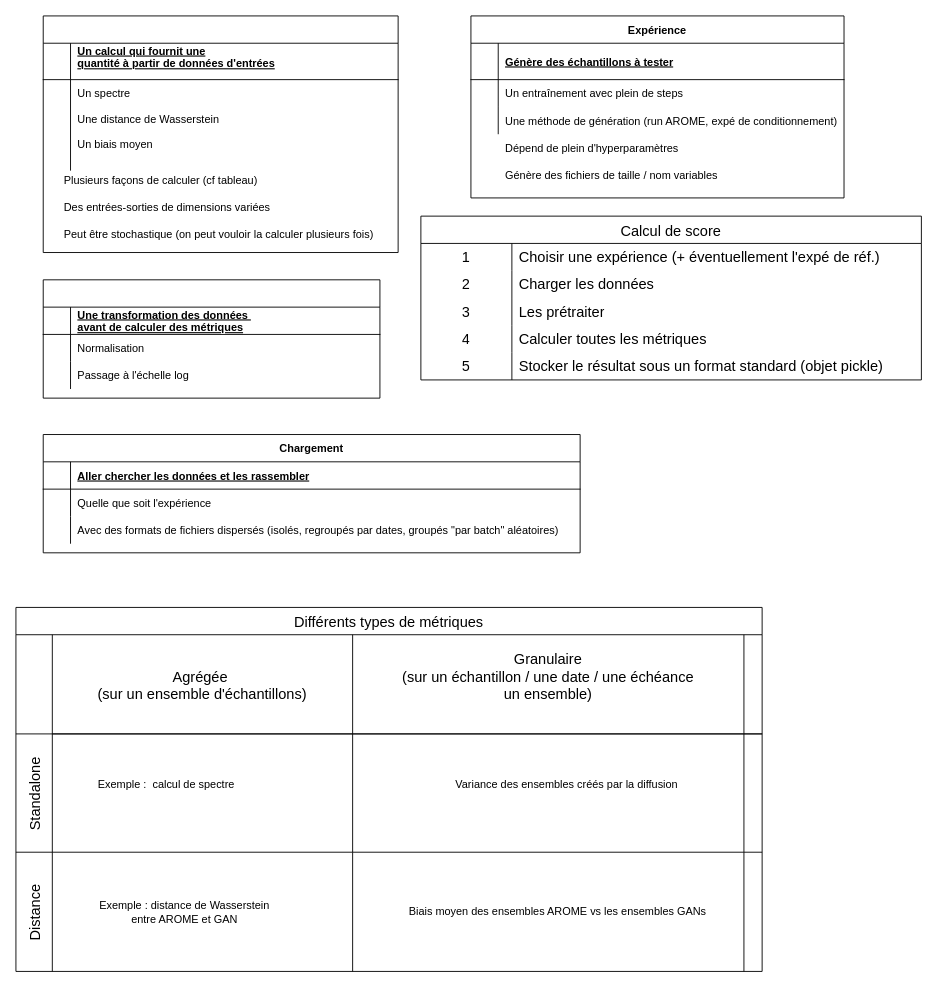
The diagram is 937 pixels wide and 987 high, and some of its shapes have lost their labels. Here are the shapes that lost their labels. From the top down, the box of each, then its label:
(42, 15, 398, 253): Métrique
(42, 279, 380, 398): Pré-traitement
